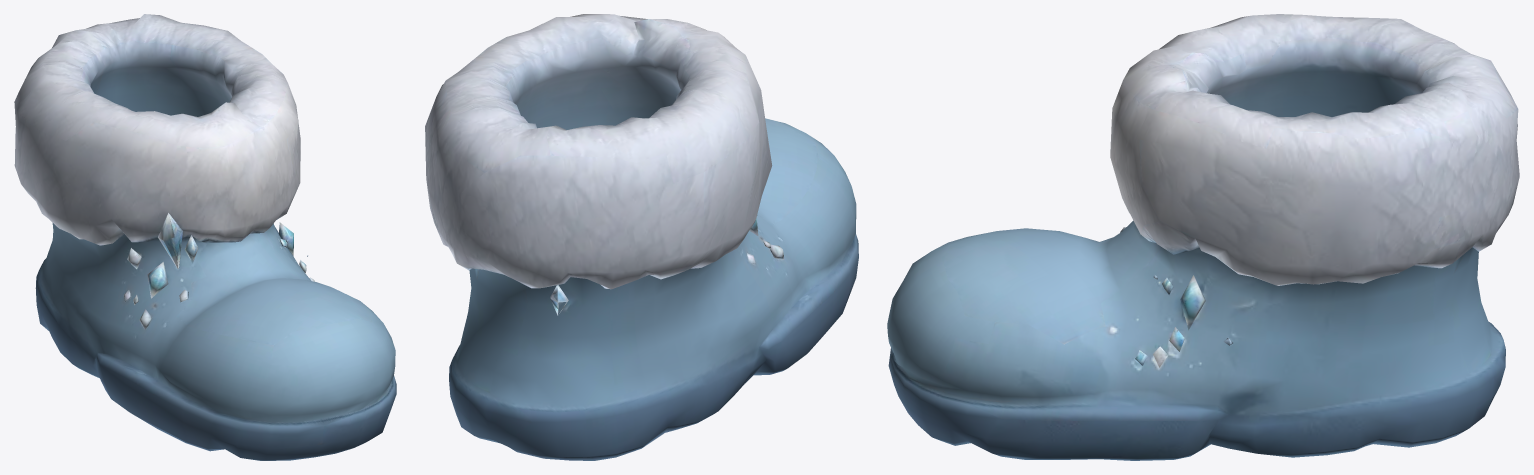
File: botte_givre.glb
3 views of the same model, side by side, from view 1: azimuth 30°, elevation 25°; view 2: azimuth 150°, elevation 25°; view 3: azimuth 270°, elevation 25° (orthographic). The views are drawn at different scales.
Size of the model in its own units: 0.4678 by 0.5108 by 0.8589.
1 material, 1 textured.
